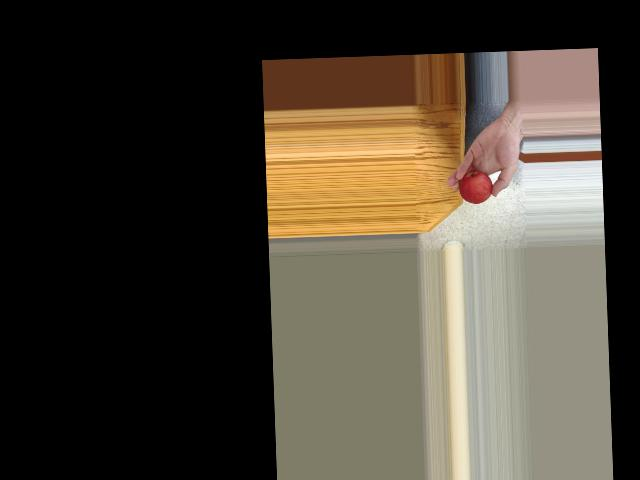apple: (458, 168, 498, 205)
